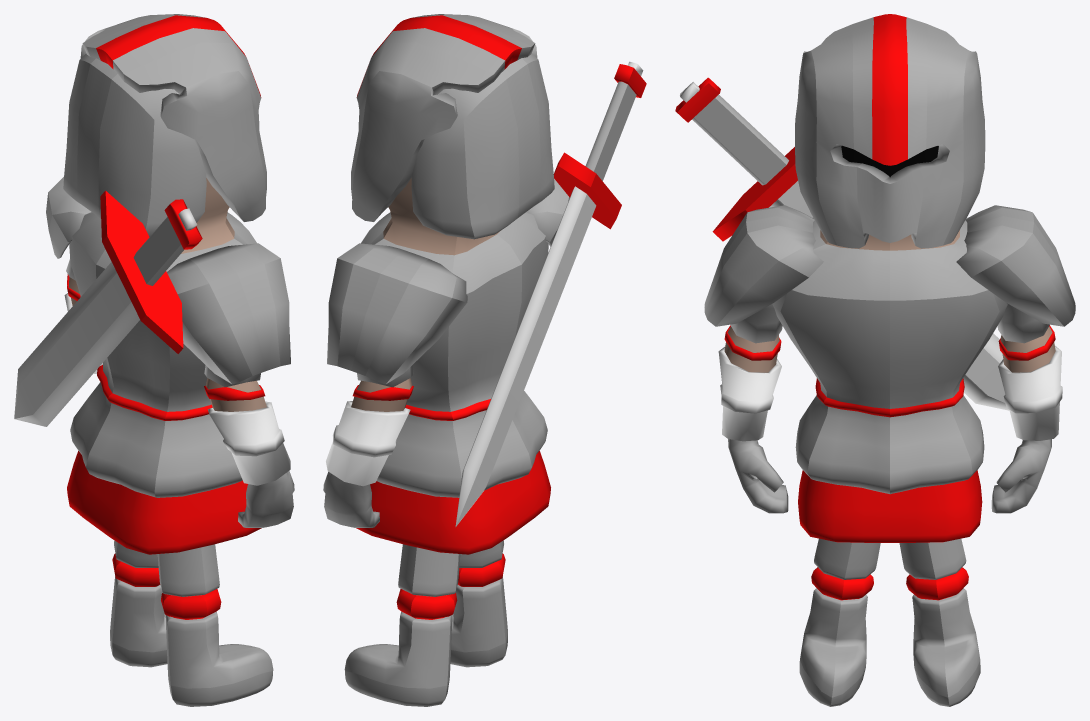
Rendered from knight.glb.
The picture shows the model from 3 angles, left to right: view 1: azimuth 30°, elevation 25°; view 2: azimuth 150°, elevation 25°; view 3: azimuth 270°, elevation 25°; orthographic projection. The views are drawn at different scales.
Visible parts, largest first — view 1: Cube.012, Cube.006, Cube.010, Cube.009, Cube.008; view 2: Cube.012, Cube.006, Cube.010, Cube.009, Cube.008; view 3: Cube.012, Cube.010, Cube.009, Cube.006, Cube.008, Cube.011.
Part boxes in pixels (x1,y1,x2,y2): Cube.012: (46, 14, 294, 706); Cube.006: (14, 208, 290, 485); Cube.010: (67, 274, 265, 554); Cube.009: (96, 15, 261, 619); Cube.008: (69, 178, 266, 411); Cube.012: (323, 14, 636, 706); Cube.006: (326, 61, 643, 526); Cube.010: (352, 385, 550, 554); Cube.009: (356, 15, 646, 619); Cube.008: (351, 178, 499, 411); Cube.012: (692, 17, 1075, 706); Cube.010: (724, 325, 1055, 542); Cube.009: (675, 14, 968, 600); Cube.006: (680, 82, 1062, 441); Cube.008: (724, 230, 1055, 372); Cube.011: (841, 145, 938, 177).
Size of the model in its own units: 0.6145 by 1.99 by 1.12.
